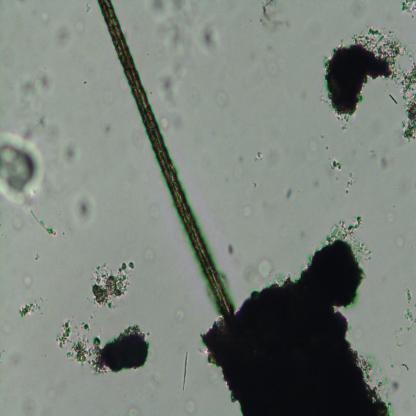Background material: (200, 211, 395, 415), (322, 25, 416, 144), (148, 0, 225, 96), (55, 319, 154, 371), (0, 129, 47, 206), (89, 260, 135, 309), (13, 74, 56, 117), (257, 1, 292, 38), (240, 258, 279, 290), (70, 190, 96, 228), (160, 96, 183, 134), (399, 287, 416, 337), (29, 207, 56, 238), (18, 296, 44, 322), (61, 139, 82, 170), (52, 22, 71, 49), (370, 148, 392, 170), (325, 157, 342, 178), (182, 350, 190, 391), (401, 0, 416, 17), (266, 61, 281, 77), (149, 200, 160, 221), (344, 172, 354, 194), (143, 247, 157, 262), (282, 187, 296, 200), (22, 272, 32, 290), (185, 398, 196, 414)
Hair: (97, 0, 233, 316)
